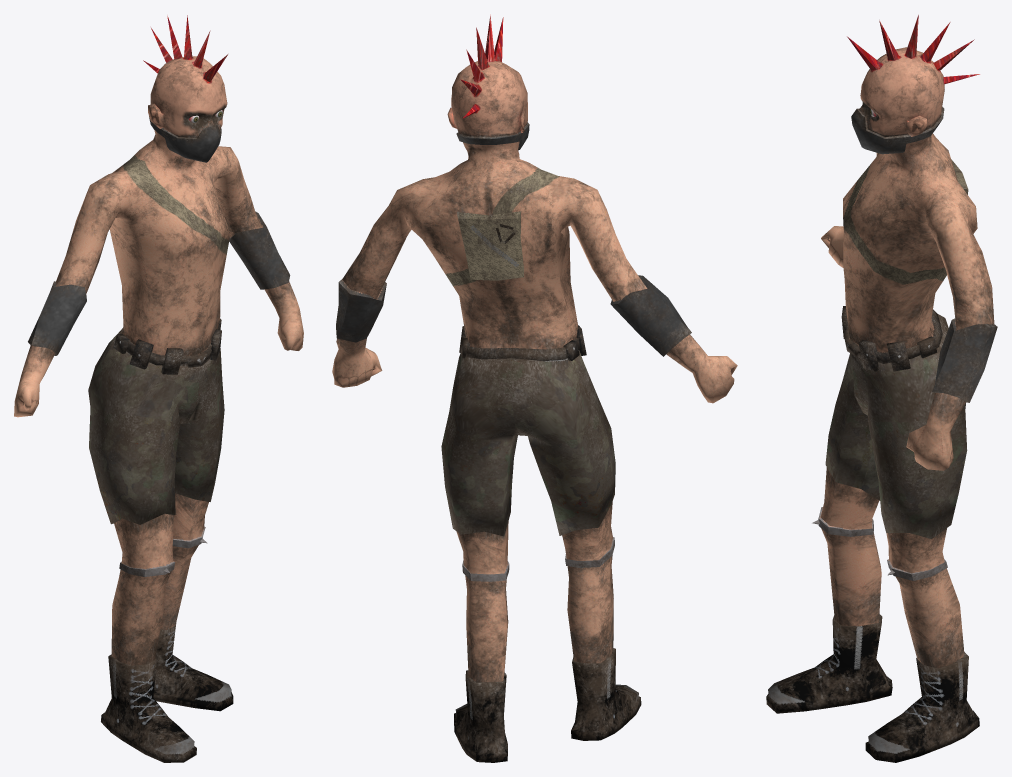
The model's file is Anim_interruptor_npc2.0033.obj.
The picture shows the model from 3 angles, left to right: view 1: azimuth 30°, elevation 25°; view 2: azimuth 150°, elevation 25°; view 3: azimuth 270°, elevation 25°; orthographic projection. The views are drawn at different scales.
Parts seen in each view (by area): view 1: polySurface1; view 2: polySurface1; view 3: polySurface1.
Boxes of the visible parts, x1,y1,x2,y2 form: polySurface1: (14,15,303,762); polySurface1: (332,14,737,762); polySurface1: (766,15,997,762).
Size of the model in its own units: 5.21 by 10.13 by 2.9.
